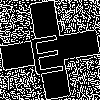E: (25, 25, 66, 76)
